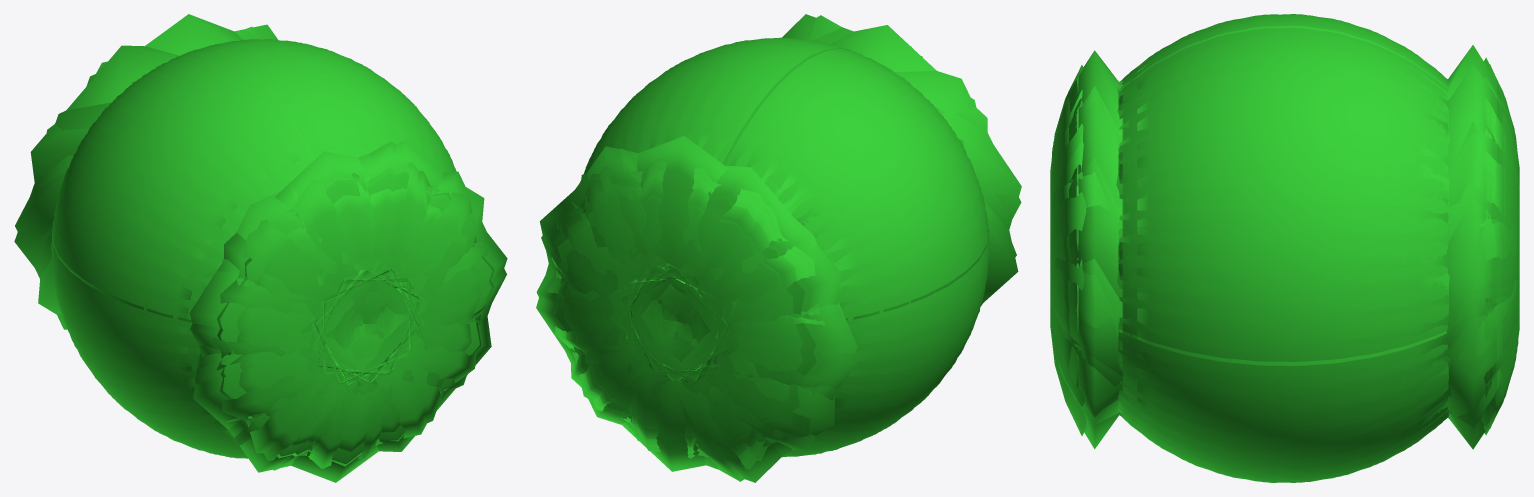
The model's file is uuon-hybrid-sphere.glb.
3 views of the same model, side by side, from view 1: azimuth 30°, elevation 25°; view 2: azimuth 150°, elevation 25°; view 3: azimuth 270°, elevation 25° (orthographic). The views are drawn at different scales.
Bounding box in the file's own units: 2 × 2 × 2.
